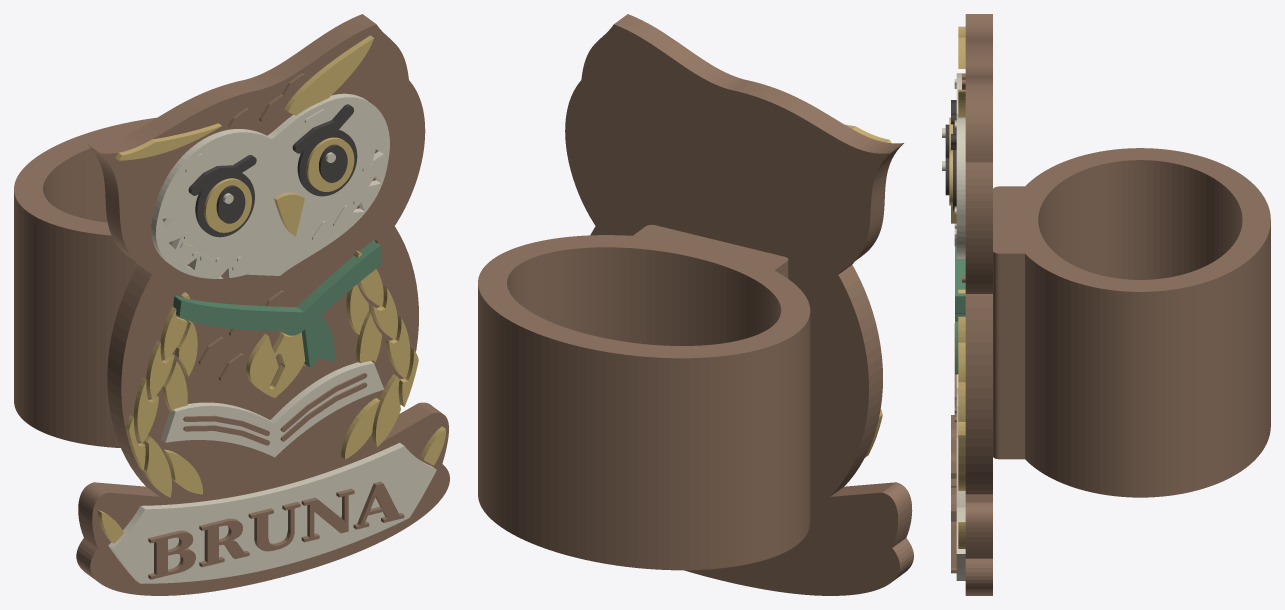
The model's file is anilha-coruja-bruna-v1-montada.glb.
3 renders of one model, left to right at view 1: azimuth 30°, elevation 25°; view 2: azimuth 150°, elevation 25°; view 3: azimuth 270°, elevation 25°, orthographic. The views are drawn at different scales.
Visible parts, largest first — view 1: castanho, creme, anilha-castanha, dourado, lenco-verde, preto; view 2: anilha-castanha, castanho; view 3: anilha-castanha, castanho, creme, dourado, lenco-verde, preto.
Boxes of the visible parts, x1,y1,x2,y2 form: castanho: (76, 14, 449, 595); creme: (108, 93, 436, 583); anilha-castanha: (14, 117, 156, 447); dourado: (98, 35, 445, 543); lenco-verde: (173, 241, 380, 368); preto: (188, 104, 357, 237); anilha-castanha: (478, 224, 810, 570); castanho: (565, 14, 913, 595); anilha-castanha: (993, 148, 1270, 497); castanho: (951, 14, 992, 595); creme: (942, 73, 965, 580); dourado: (949, 26, 965, 548); lenco-verde: (955, 228, 965, 374); preto: (945, 100, 956, 210).
Bounding box in the file's own units: 35.49 × 50 × 28.98.
